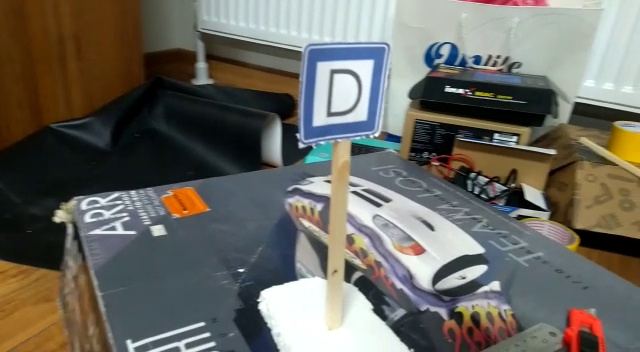durak: (307, 49, 372, 132)
